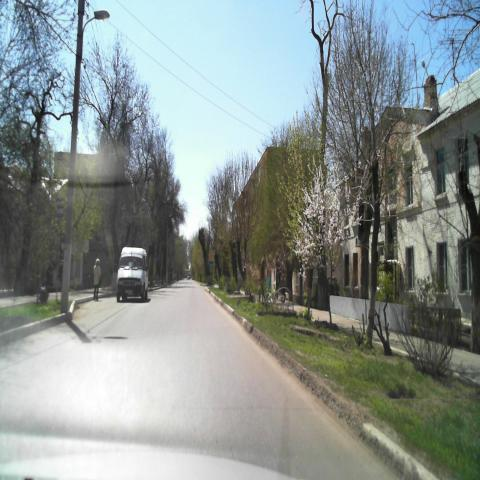2_1: (208, 251, 214, 259)
5_19_1: (209, 260, 214, 268)
